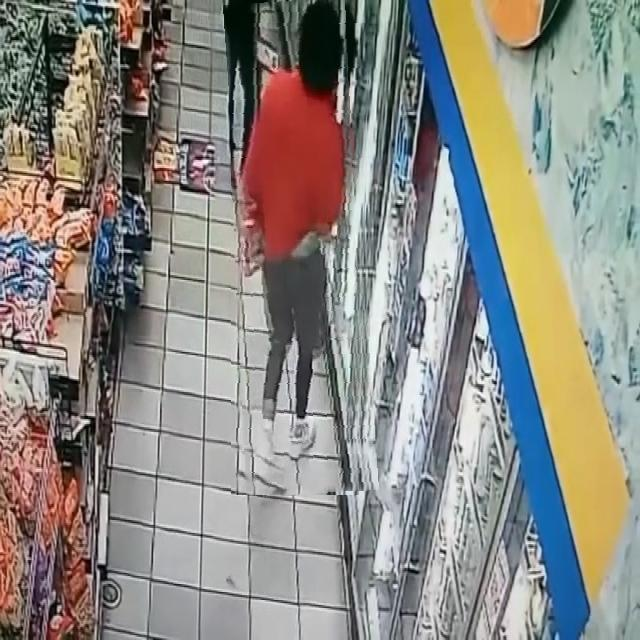normal: (231, 0, 370, 495)
